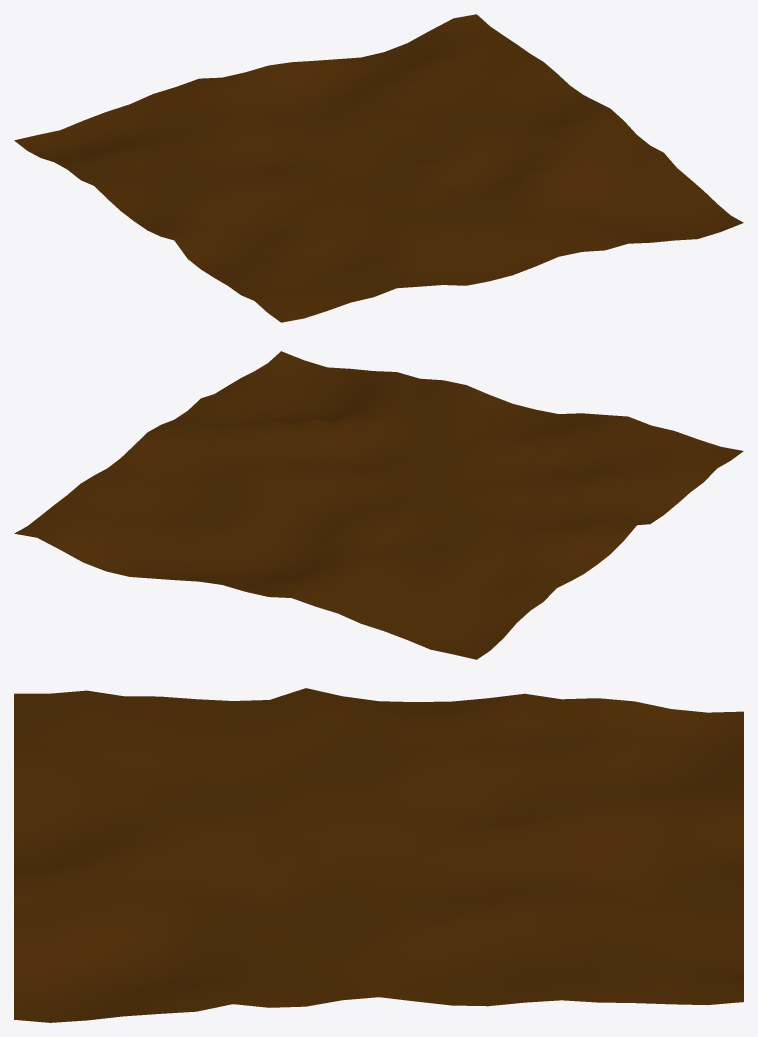
File: uploads_files_1968653_трава.obj
3 renders of one model, top to bottom at view 1: azimuth 30°, elevation 25°; view 2: azimuth 150°, elevation 25°; view 3: azimuth 270°, elevation 25°, orthographic. The views are drawn at different scales.
Parts seen in each view (by area): view 1: Мех.1; view 2: Мех.1; view 3: Мех.1.
Boxes of the visible parts, bbox=[...] form: Мех.1: bbox=[14, 14, 743, 322]; Мех.1: bbox=[14, 351, 743, 659]; Мех.1: bbox=[14, 688, 743, 1022].
Bounding box in the file's own units: 1200 × 60.32 × 1200.
